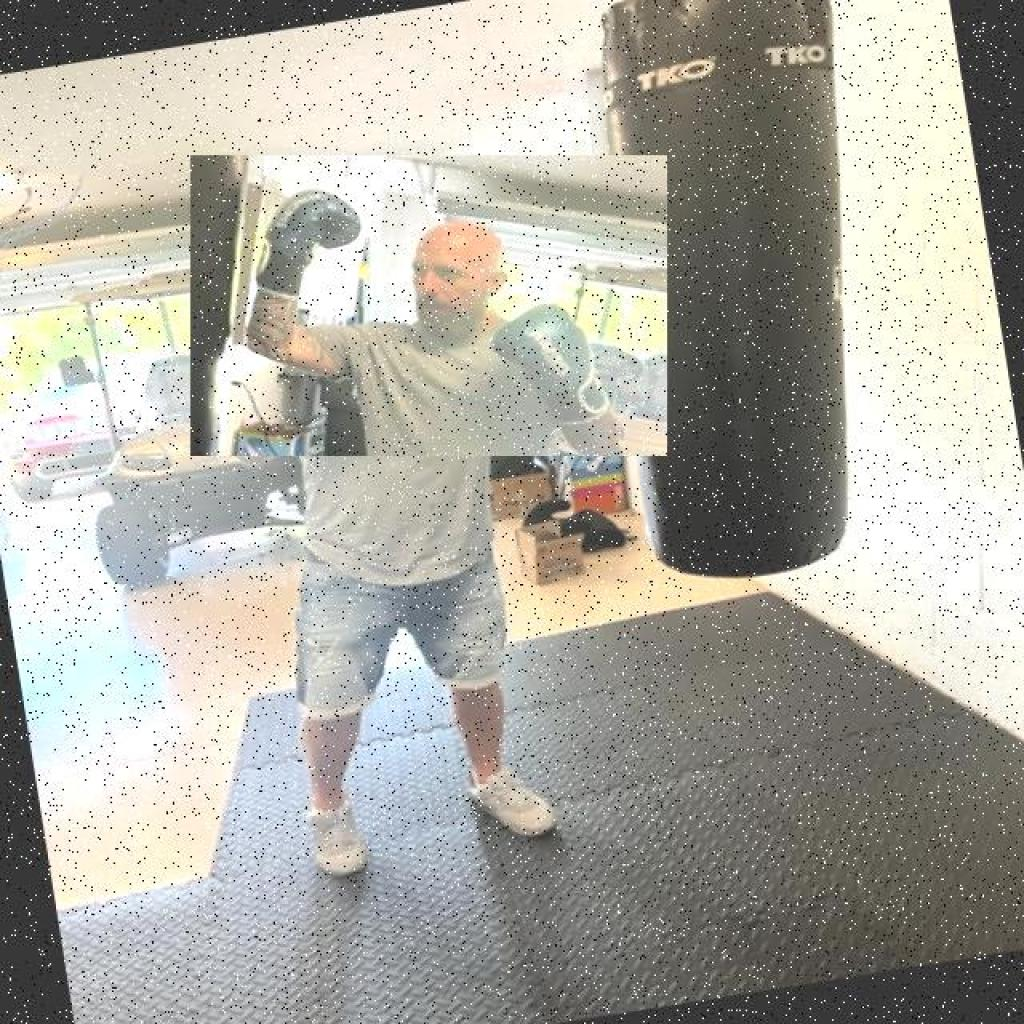uppercut: (190, 155, 668, 456)
